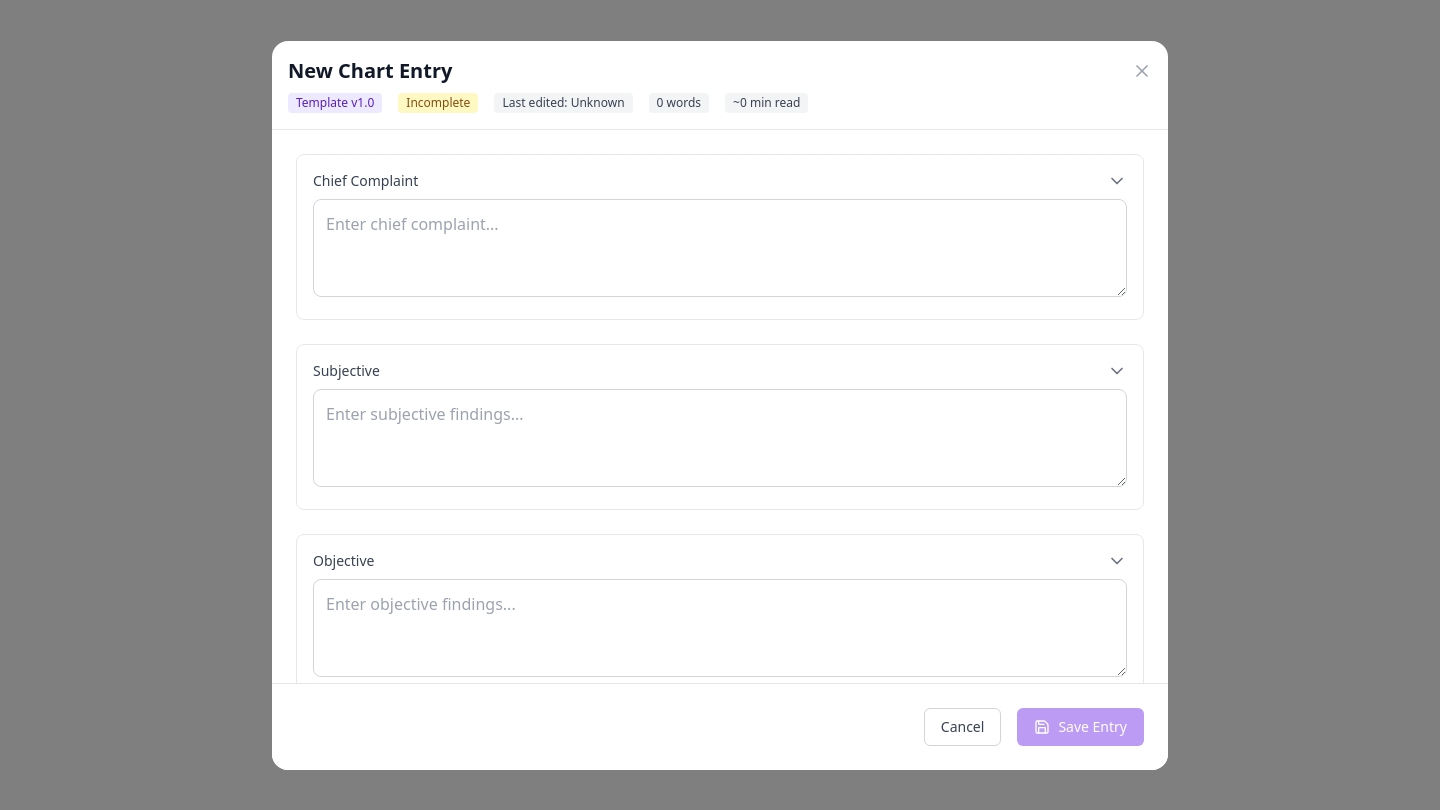
Test: NewChartEntryModal Integration › can collapse and expand sections
Expected: the text box with placeholder "Enter subjective findings..." is shown, [313,388,1127,486]
Click the button "Subjective".
click(346, 370)  # box [313,360,1127,380]
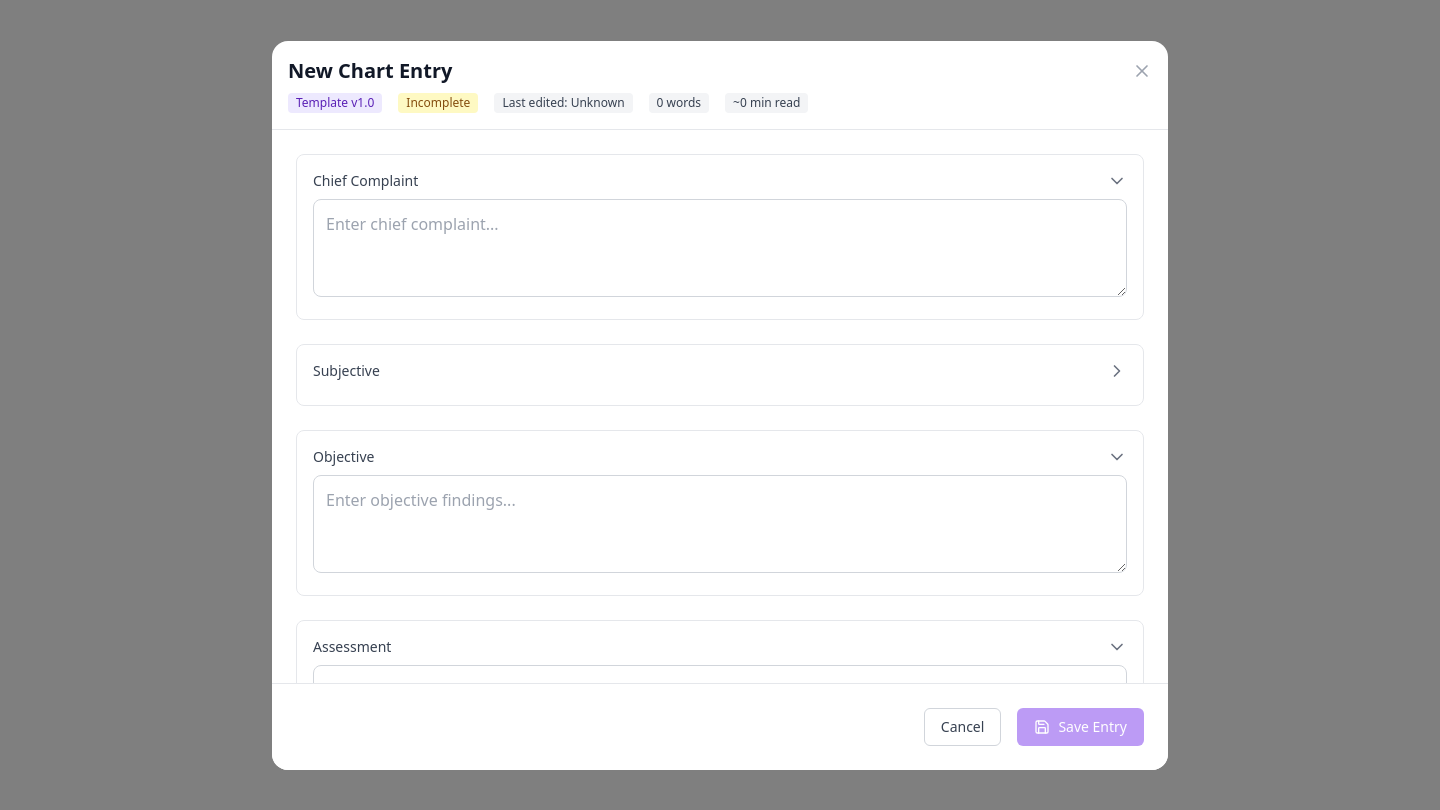
Expected: the field with placeholder "Enter subjective findings..." is not shown
Click the button "Subjective".
click(346, 370)  # box [313,360,1127,380]
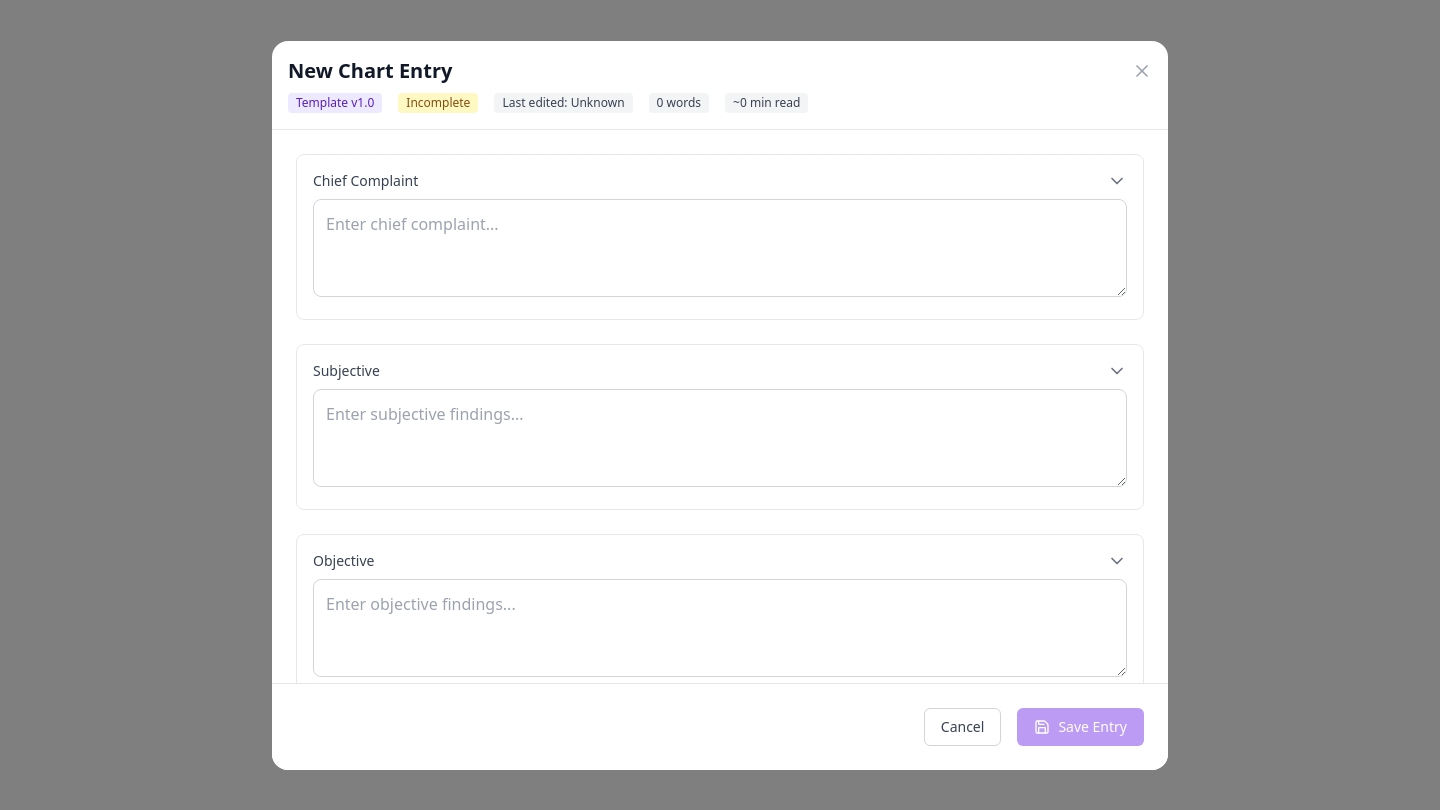
Expected: the text box with placeholder "Enter subjective findings..." is shown, [313,388,1127,486]
